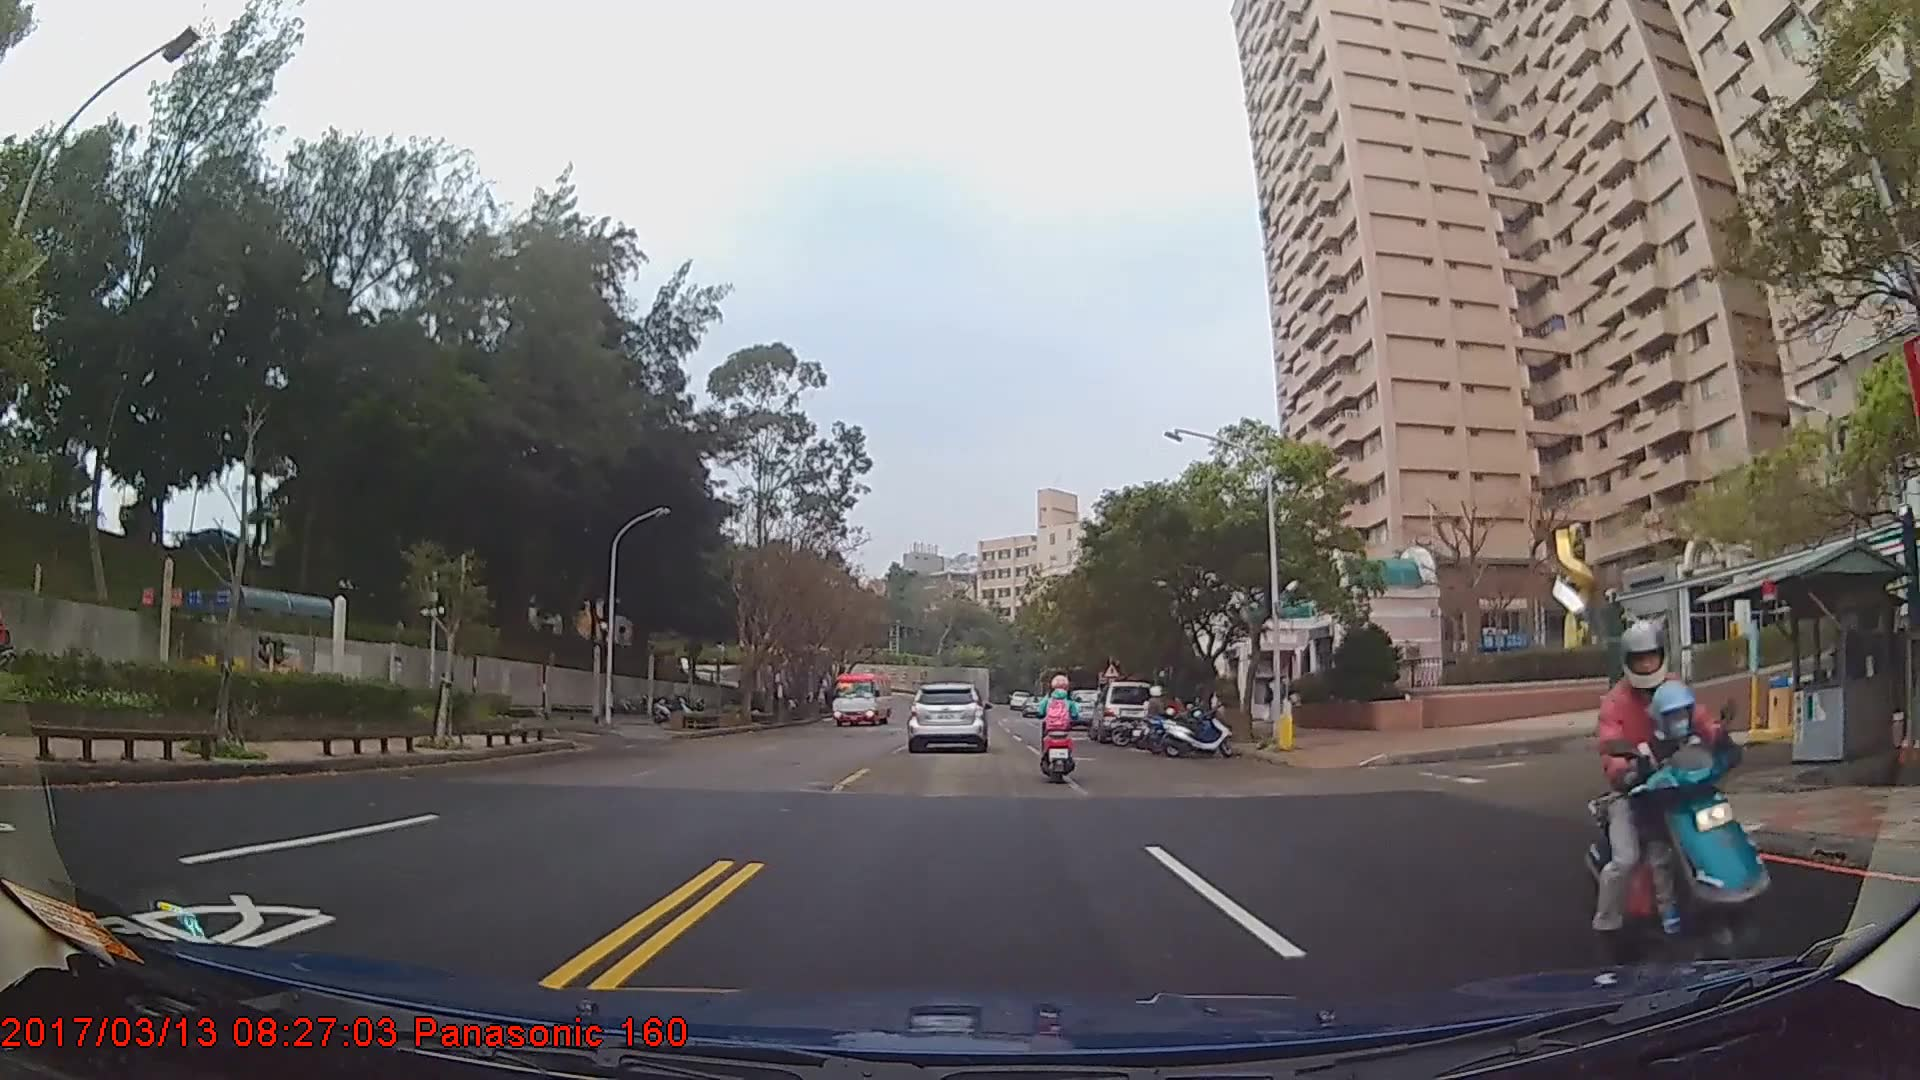rider: (1587, 614, 1771, 966), (1035, 665, 1081, 786), (1132, 685, 1176, 751)
vehicle: (907, 680, 987, 753), (1087, 680, 1152, 743), (828, 668, 891, 725)
